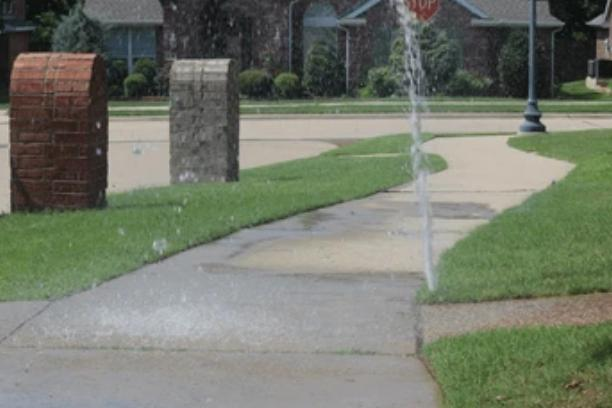pipe burst: (393, 0, 441, 292)
water accumulation: (0, 196, 612, 408)
